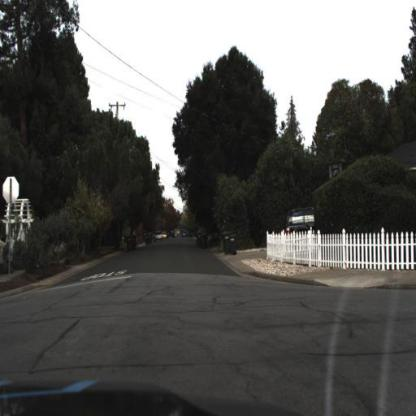car: (286, 205, 317, 238), (156, 232, 164, 242)
